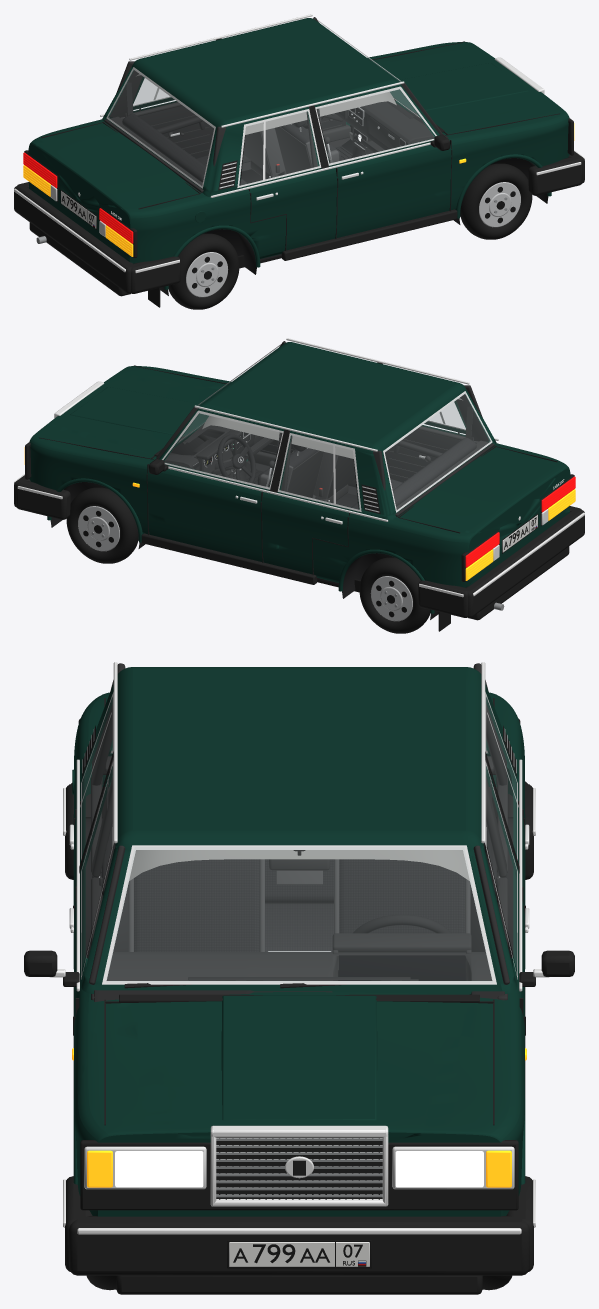
File: lada-21074.glb
3 renders of one model, top to bottom at view 1: azimuth 30°, elevation 25°; view 2: azimuth 150°, elevation 25°; view 3: azimuth 270°, elevation 25°, orthographic. The views are drawn at different scales.
Visible parts, largest first — view 1: Body_Lower, Body_Cabin, Glass_Rear, Glass_FrontDoor_R, Glass_RearDoor_R, Hood_Center, Rear_Bumper, Wheel_FR_Tyre, Wheel_RR_Tyre, Int_Dashboard, Sill_-1, Int_RearDoor_1_Card (+32 smaller); view 2: Body_Lower, Body_Cabin, Glass_Rear, Glass_FrontDoor_L, Glass_RearDoor_L, Hood_Center, Rear_Bumper, Wheel_FL_Tyre, Wheel_RL_Tyre, Sill_1, Int_RearDoor_-1_Card, Int_Rear_Back (+32 smaller); view 3: Body_Cabin, Body_Lower, Glass_Windshield, Front_Bumper, Hood_Center, Int_Seat_Pass_Back, Front_Panel_Black, Int_Dashboard, Int_Seat_Driver_Back, Front_Apron, Grille_Back, Glass_Windshield_Frame (+40 smaller).
Boxes of the visible parts, bbox=[...] form: Body_Lower: bbox=[28, 42, 569, 263]; Body_Cabin: bbox=[102, 18, 439, 196]; Glass_Rear: bbox=[108, 69, 213, 186]; Glass_FrontDoor_R: bbox=[318, 89, 433, 162]; Glass_RearDoor_R: bbox=[241, 111, 317, 184]; Hood_Center: bbox=[390, 63, 528, 112]; Rear_Bumper: bbox=[14, 185, 132, 293]; Wheel_FR_Tyre: bbox=[460, 163, 532, 239]; Wheel_RR_Tyre: bbox=[168, 233, 239, 309]; Int_Dashboard: bbox=[335, 101, 448, 149]; Sill_-1: bbox=[281, 209, 457, 260]; Int_RearDoor_1_Card: bbox=[138, 105, 213, 158]; Body_Lower: bbox=[29, 366, 570, 587]; Body_Cabin: bbox=[159, 342, 496, 520]; Glass_Rear: bbox=[385, 393, 490, 510]; Glass_FrontDoor_L: bbox=[165, 413, 280, 486]; Glass_RearDoor_L: bbox=[281, 435, 357, 508]; Hood_Center: bbox=[70, 387, 208, 436]; Rear_Bumper: bbox=[466, 509, 584, 617]; Wheel_FL_Tyre: bbox=[66, 487, 138, 563]; Wheel_RL_Tyre: bbox=[359, 557, 430, 633]; Sill_1: bbox=[141, 533, 317, 584]; Int_RearDoor_-1_Card: bbox=[385, 429, 460, 482]; Int_Rear_Back: bbox=[392, 437, 476, 505]; Body_Cabin: bbox=[81, 667, 517, 994]; Body_Lower: bbox=[74, 692, 524, 1216]; Glass_Windshield: bbox=[106, 847, 492, 981]; Front_Bumper: bbox=[69, 1216, 529, 1275]; Hood_Center: bbox=[221, 995, 377, 1120]; Int_Seat_Pass_Back: bbox=[134, 859, 259, 951]; Front_Panel_Black: bbox=[80, 1140, 518, 1210]; Int_Dashboard: bbox=[94, 952, 504, 1001]; Int_Seat_Driver_Back: bbox=[339, 859, 464, 933]; Front_Apron: bbox=[116, 1275, 482, 1294]; Grille_Back: bbox=[216, 1137, 382, 1198]; Glass_Windshield_Frame: bbox=[102, 845, 496, 984].
Bounding box in the file's own units: 3.85 × 1.41 × 1.98.
35 materials, 1 textured.
